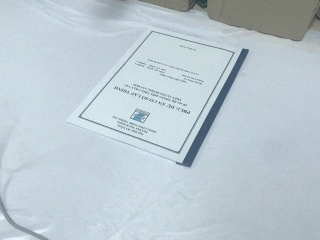box: (205, 1, 319, 42)
